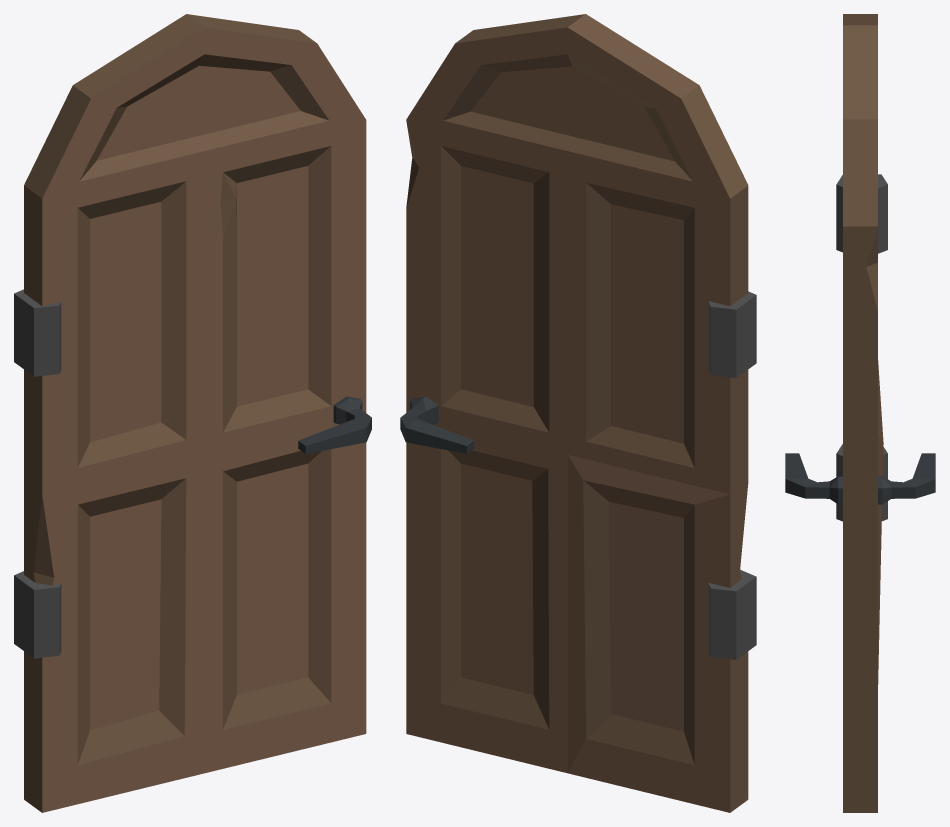
The model's file is SM_Bld_Village_Door_Hinge_02.fbx.
The picture shows the model from 3 angles, left to right: view 1: azimuth 30°, elevation 25°; view 2: azimuth 150°, elevation 25°; view 3: azimuth 270°, elevation 25°; orthographic projection. The views are drawn at different scales.
Visible parts, largest first — view 1: SM_Bld_Village_Door_Hinge_02; view 2: SM_Bld_Village_Door_Hinge_02; view 3: SM_Bld_Village_Door_Hinge_02.
Part boxes in pixels (x1,y1,x2,y2): SM_Bld_Village_Door_Hinge_02: (14, 14, 371, 812); SM_Bld_Village_Door_Hinge_02: (400, 14, 756, 812); SM_Bld_Village_Door_Hinge_02: (785, 14, 935, 812).
Size of the model in its own units: 105 by 226 by 43.24.
